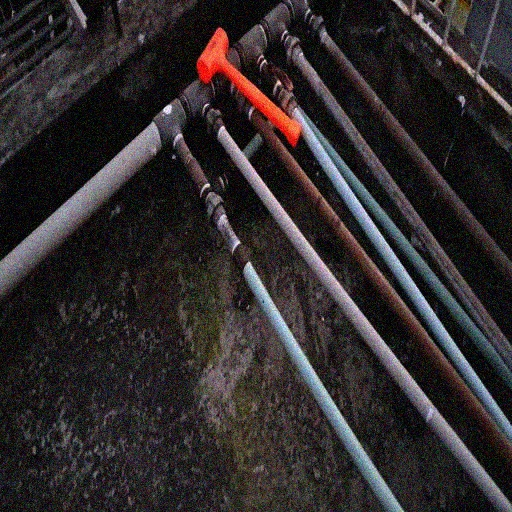mallet: (197, 26, 301, 147)
